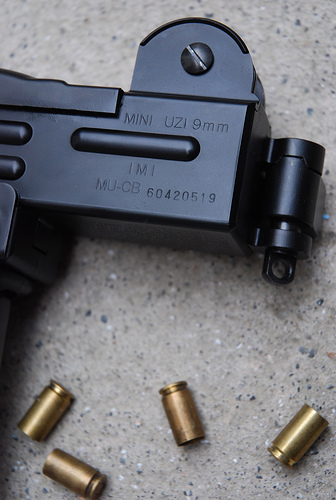rifle: (4, 41, 319, 475)
